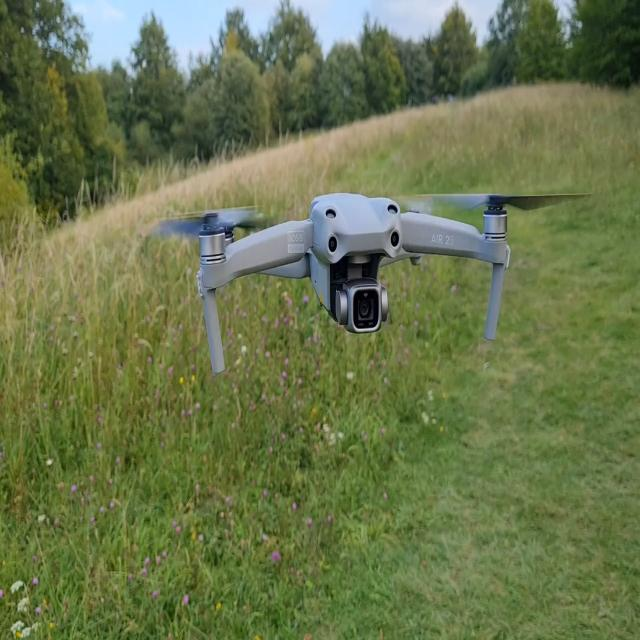drone: (140, 188, 593, 374)
